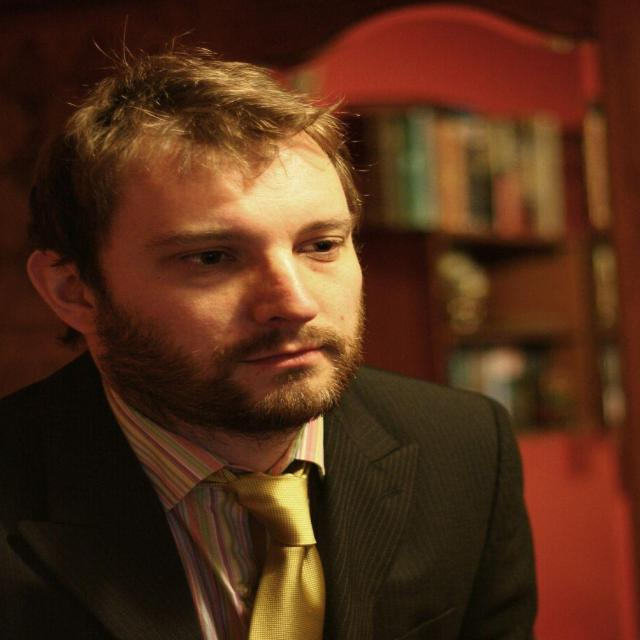Eyebags: (177, 263, 244, 289), (300, 250, 349, 277)
